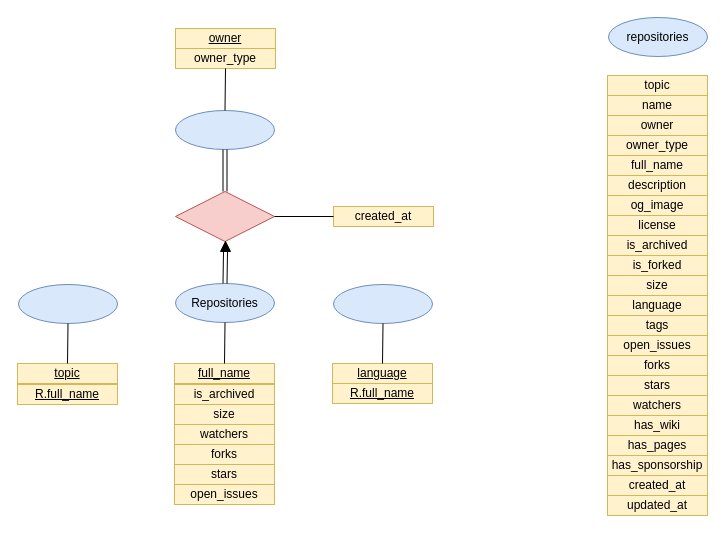
This 725x533 diagram has some shape labels left out. Each missing label, with the box of its shape:
created_by: (174, 190, 274, 242)
Languages: (332, 284, 432, 324)
Owners: (174, 110, 274, 150)
Topics: (18, 284, 118, 324)
